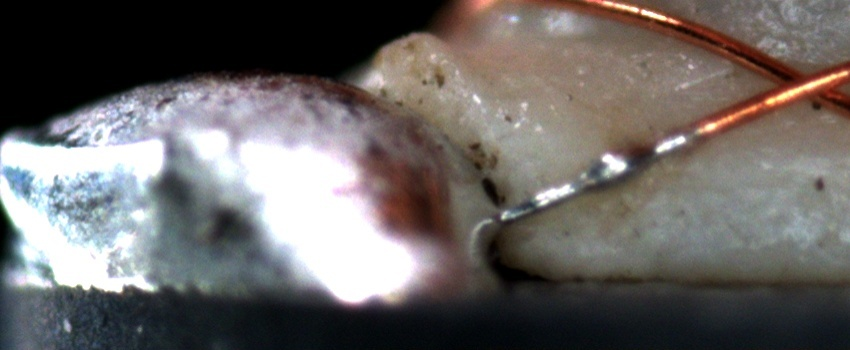CL: (750, 52, 847, 115)
DL: (630, 141, 849, 205)
TB: (585, 145, 648, 191)
TS: (500, 133, 691, 222)
TTCW: (492, 98, 751, 223)
